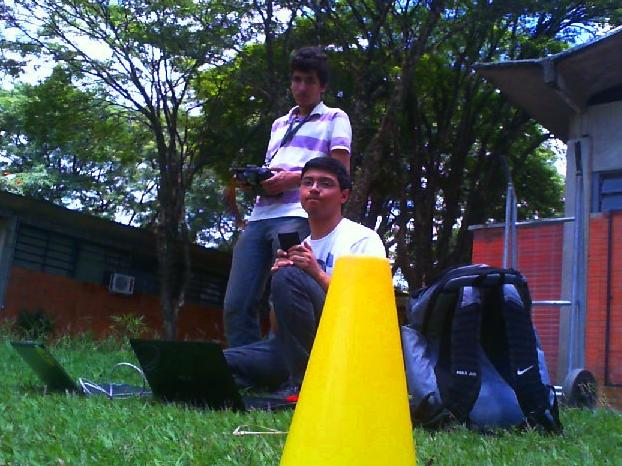0 cone: (275, 255, 417, 466)
